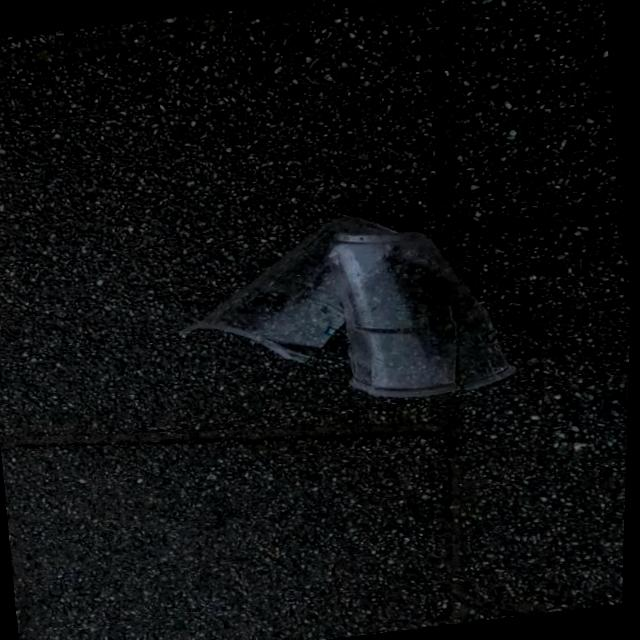Cup: (158, 188, 536, 432)
